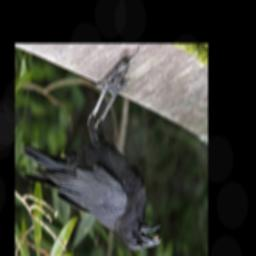Crow: (20, 69, 161, 251)
